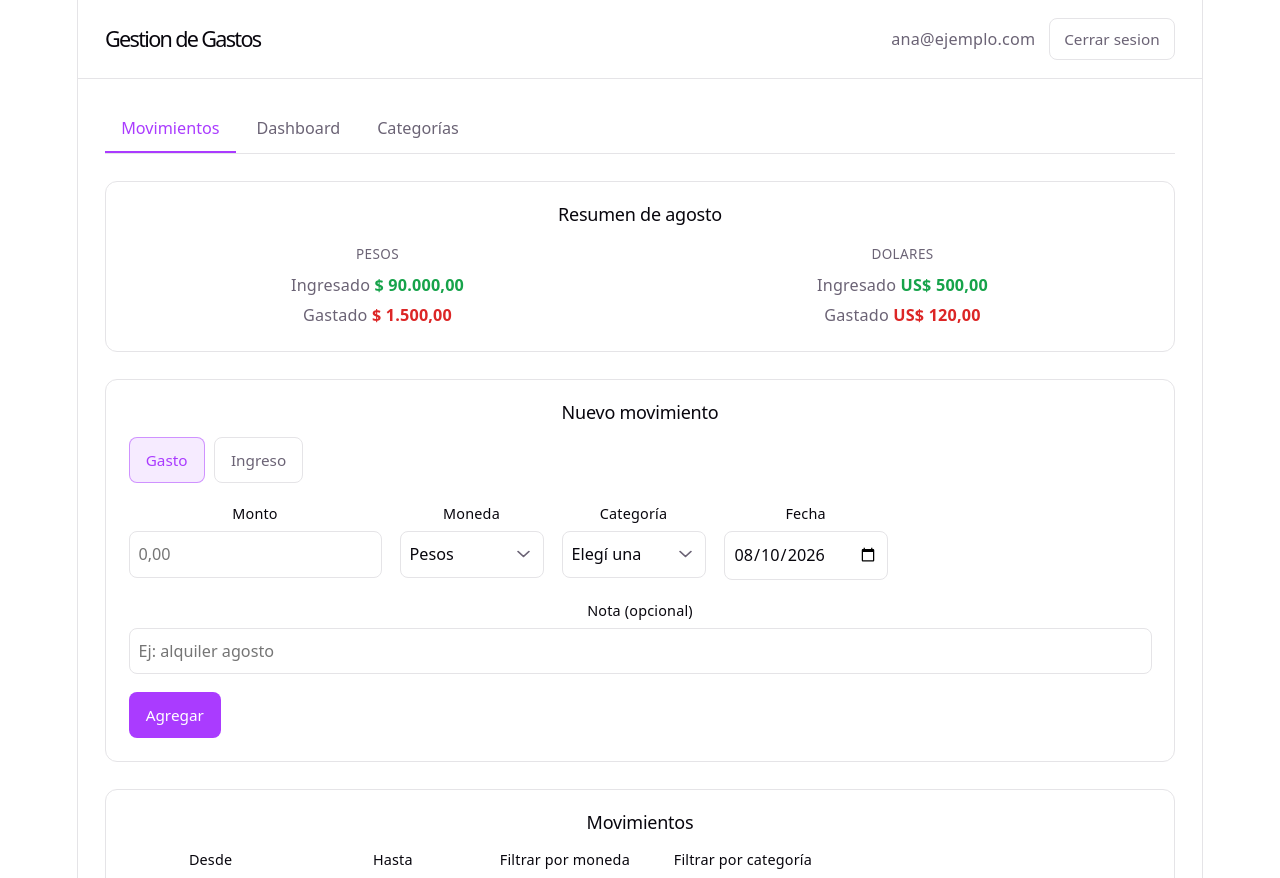
dashboard (RF-19 a RF-21) › AC-27: muestra el total de cada categoría
This screenshot has width=1280, height=878.
Click the tab "Dashboard" at (298, 130), box 240,106 -> 356,153
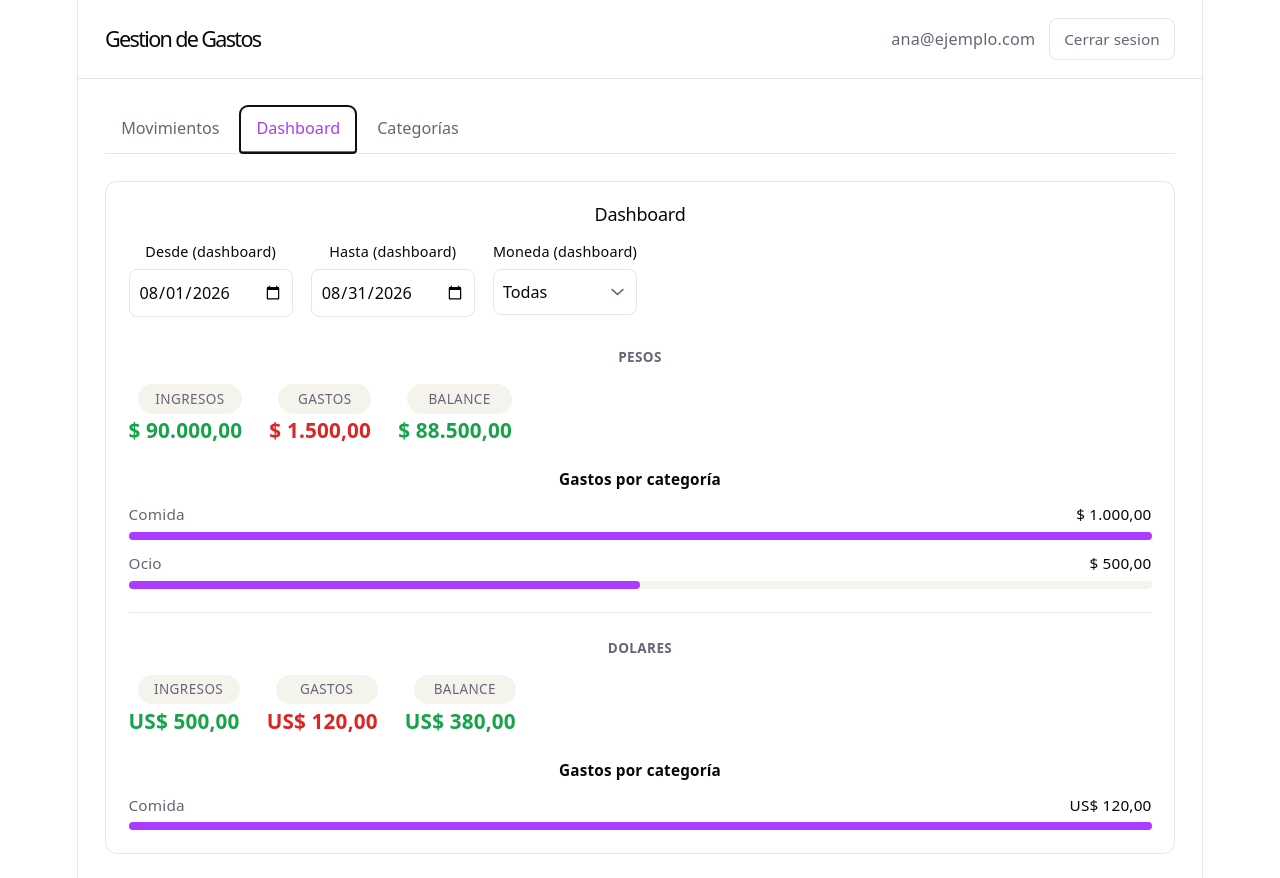
Expected: the element named "Dashboard en Pesos" is shown, 128,344 -> 1152,589
Expected: the text "Comida" in the row of "$ 1.000,00" is shown, 128,504 -> 185,524
Expected: the text "$ 1.000,00" is shown, 1076,501 -> 1152,527
